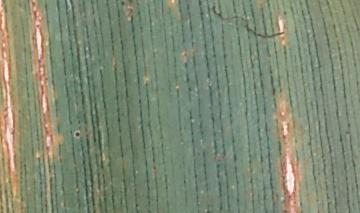tarspot: (74, 131, 81, 139), (281, 10, 288, 17), (119, 1, 126, 7)
